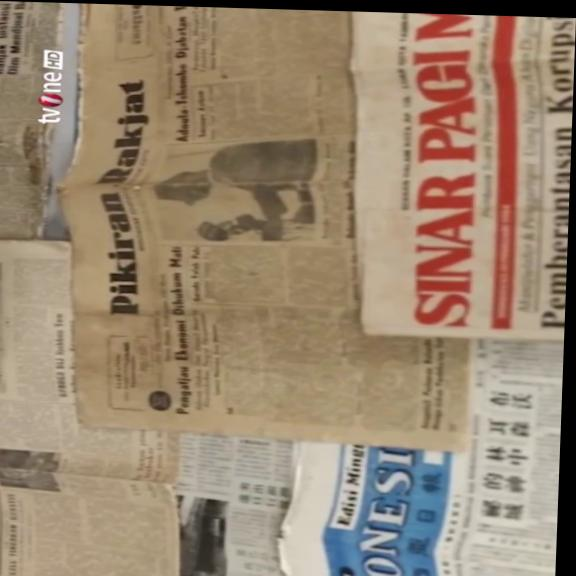Kertas: (47, 11, 475, 444)
